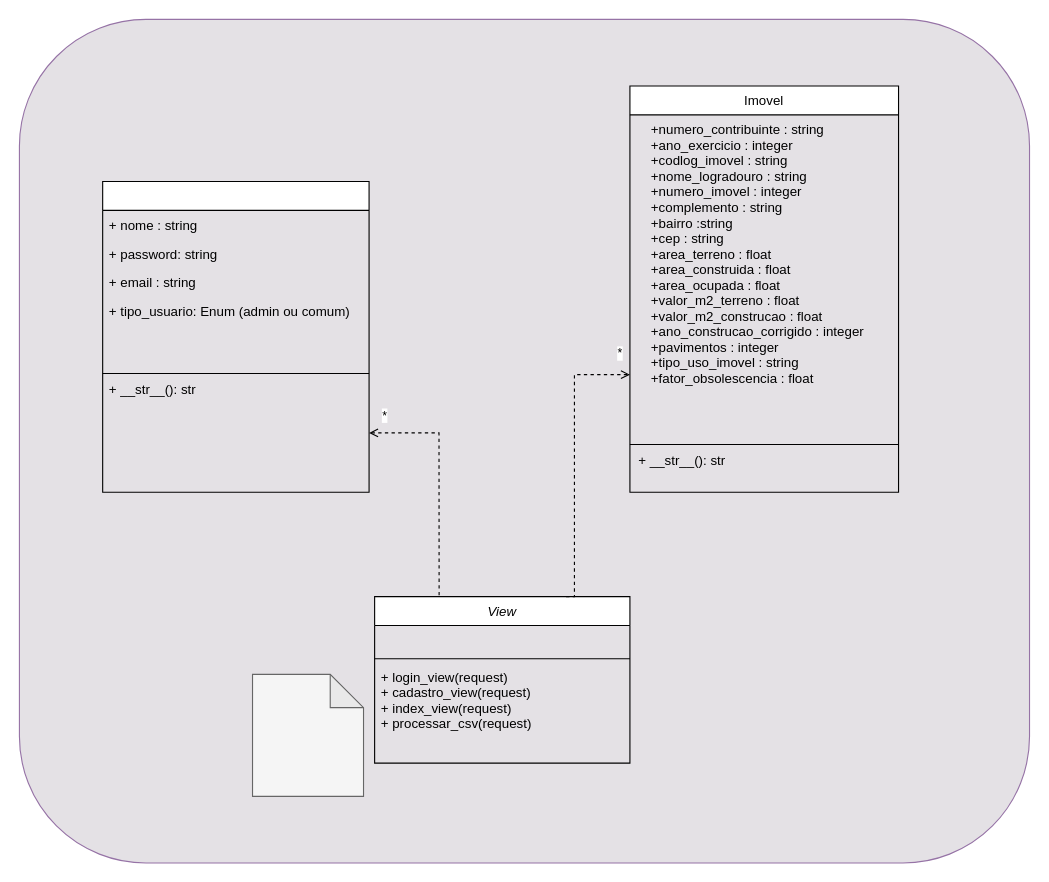
The diagram is 1049 pixels wide and 882 high, and some of its shapes have lost their labels. Here are the shapes that lost their labels. From the top down, the box of each, then its label:
(102, 180, 369, 492): Usuário
(251, 673, 364, 796): a View se comunica diretamente com o Banco de Dados
